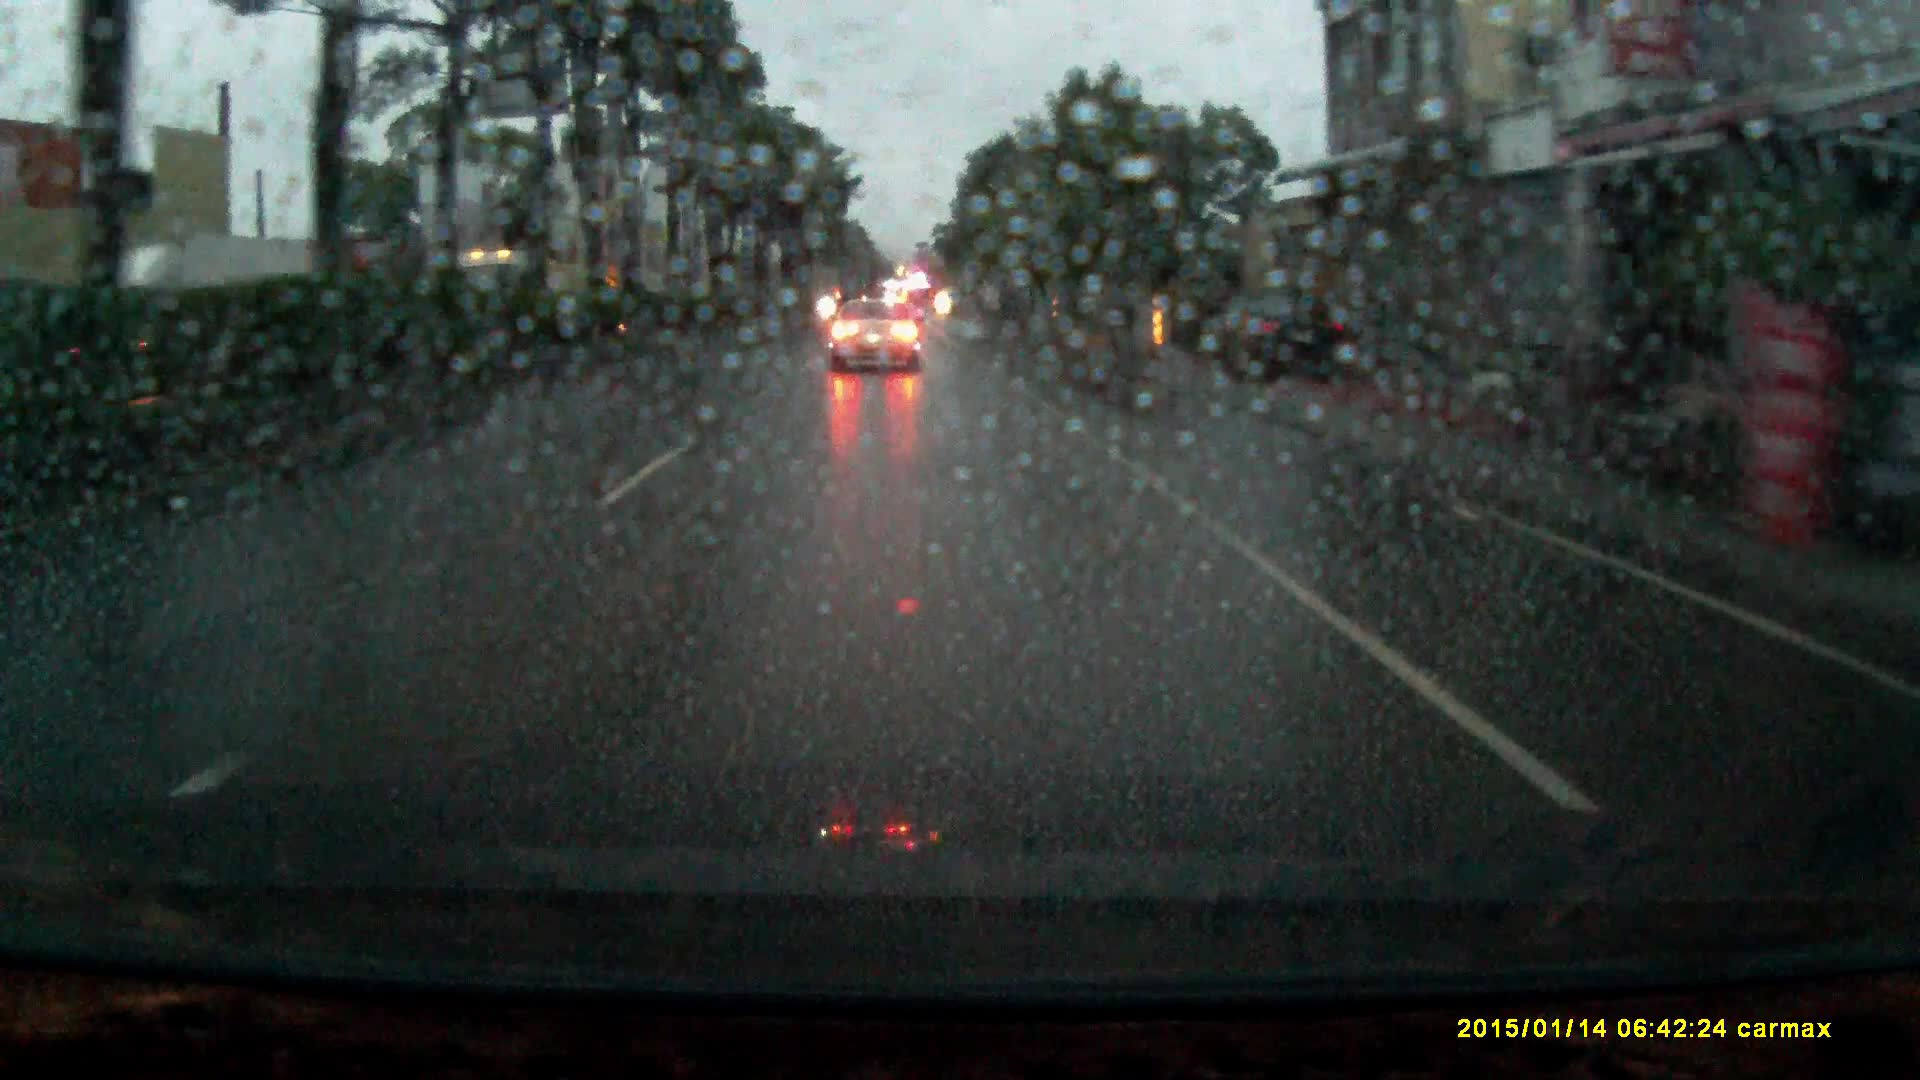vehicle: (84, 233, 294, 381), (433, 244, 593, 326), (1218, 299, 1348, 381), (827, 301, 924, 376)
